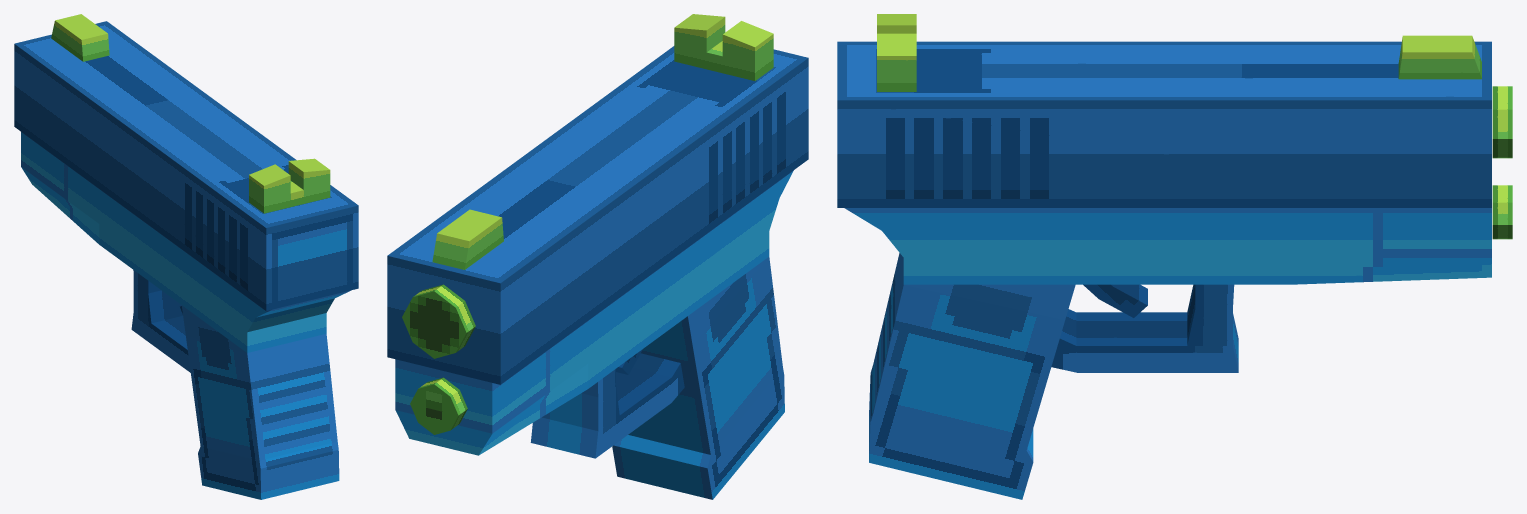
File: glock-19-blue.gltf
3 renders of one model, left to right at view 1: azimuth 30°, elevation 25°; view 2: azimuth 150°, elevation 25°; view 3: azimuth 270°, elevation 25°, orthographic. The views are drawn at different scales.
Parts seen in each view (by area): view 1: cube (×8); view 2: cube (×10); view 3: cube (×10).
Boxes of the visible parts, box(x1,y1,x2,y2) form: cube (×8): box(14, 14, 358, 499); cube (×10): box(387, 14, 808, 499); cube (×10): box(837, 14, 1512, 499).
Size of the model in its own units: 0.2188 by 0.7746 by 1.06.
Materials: 1 (1 with a texture image).
